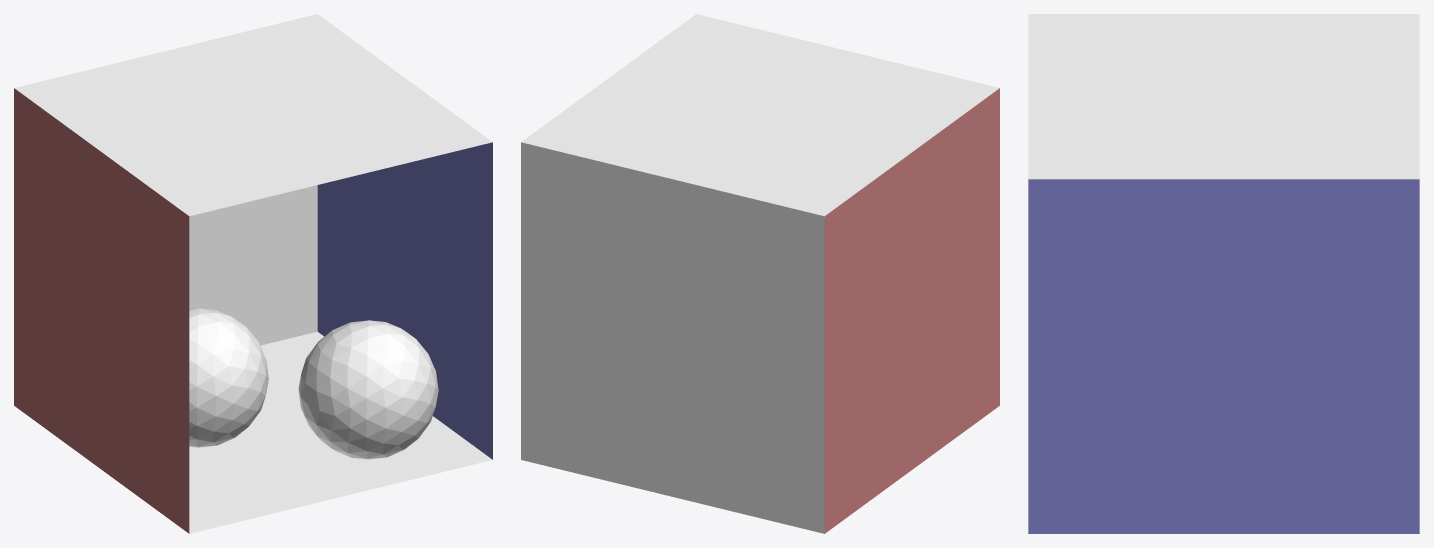
Rendered from cbox.dae.
The picture shows the model from 3 angles, left to right: view 1: azimuth 30°, elevation 25°; view 2: azimuth 150°, elevation 25°; view 3: azimuth 270°, elevation 25°; orthographic projection. The views are drawn at different scales.
Visible parts, largest first — view 1: Square-S3D-13, Square-S3D-15, Square-S3D-14, Square-S3D-17, Square-S3D-16, Object_19-S3D-19, Object_18-S3D-18; view 2: Square-S3D-16, Square-S3D-13, Square-S3D-15; view 3: Square-S3D-14, Square-S3D-15.
Boxes of the visible parts, box(x1,y1,x2,y2) form: Square-S3D-13: box(14, 88, 189, 533); Square-S3D-15: box(14, 14, 492, 216); Square-S3D-14: box(317, 142, 492, 459); Square-S3D-17: box(189, 331, 492, 533); Square-S3D-16: box(189, 185, 317, 345); Object_19-S3D-19: box(298, 320, 438, 459); Object_18-S3D-18: box(189, 308, 268, 447); Square-S3D-16: box(521, 142, 824, 533); Square-S3D-13: box(824, 88, 999, 533); Square-S3D-15: box(521, 14, 999, 216); Square-S3D-14: box(1028, 179, 1419, 533); Square-S3D-15: box(1028, 14, 1419, 179).
Bounding box in the file's own units: 1 × 1 × 1.
